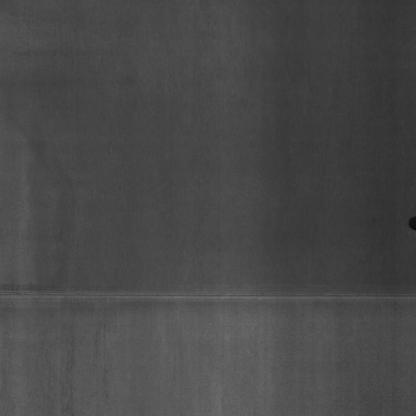punching_hole: (407, 214, 416, 234)
welding_line: (0, 282, 416, 307)
